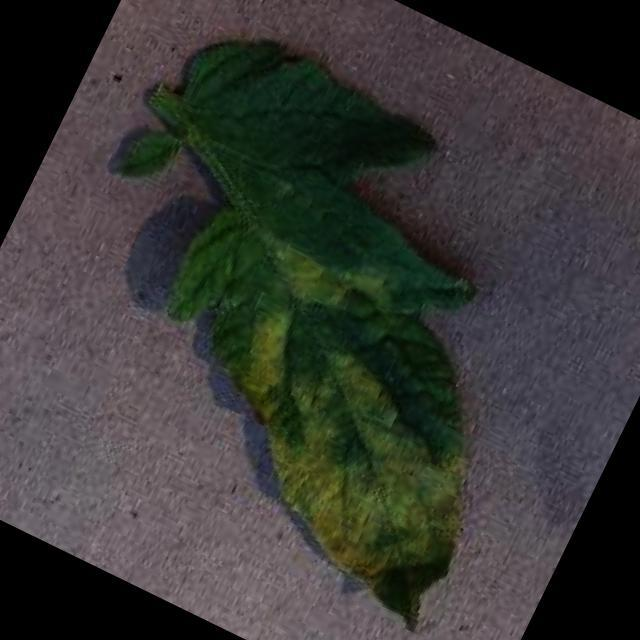Tomato mold leaf: (6, 12, 626, 640)
